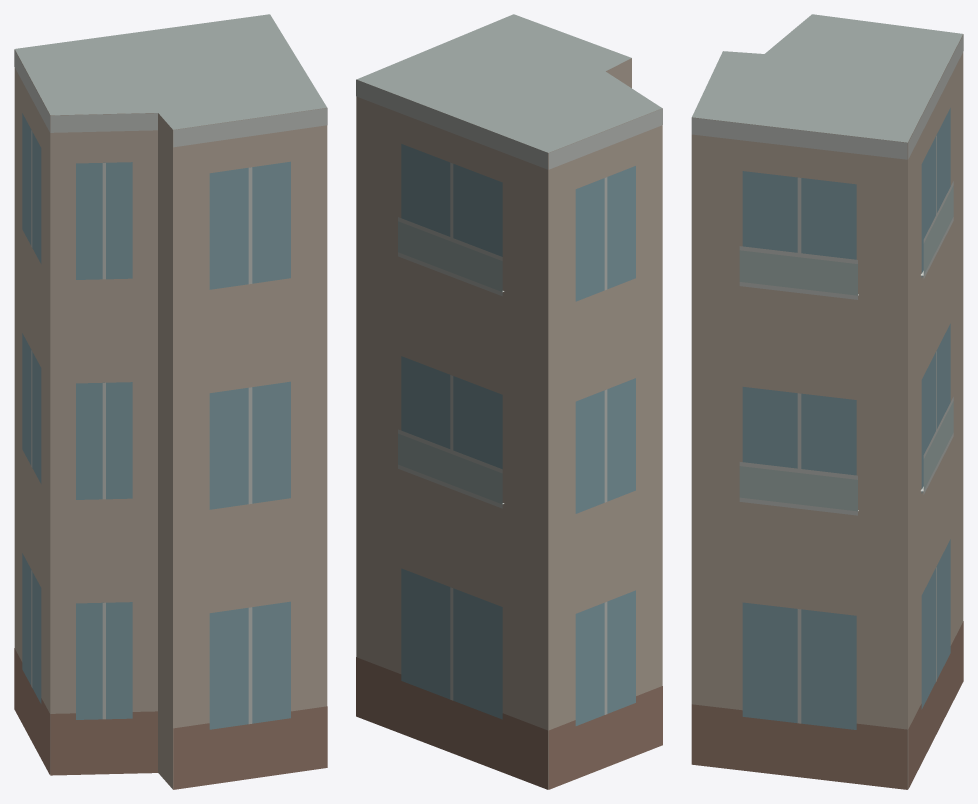
The model's file is survey-upis-32808775.glb.
3 renders of one model, left to right at view 1: azimuth 30°, elevation 25°; view 2: azimuth 150°, elevation 25°; view 3: azimuth 270°, elevation 25°, orthographic. The views are drawn at different scales.
Parts seen in each view (by area): view 1: survey-upis-32808775.tmp; view 2: survey-upis-32808775.tmp; view 3: survey-upis-32808775.tmp.
Boxes of the visible parts, x1,y1,x2,y2 form: survey-upis-32808775.tmp: [14, 14, 327, 789]; survey-upis-32808775.tmp: [356, 14, 662, 789]; survey-upis-32808775.tmp: [691, 14, 963, 789].
Size of the model in its own units: 3.91 by 9.15 by 3.49.
